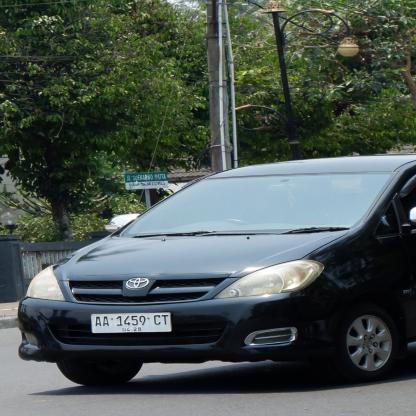Plat-Nomor: (86, 310, 175, 336)
